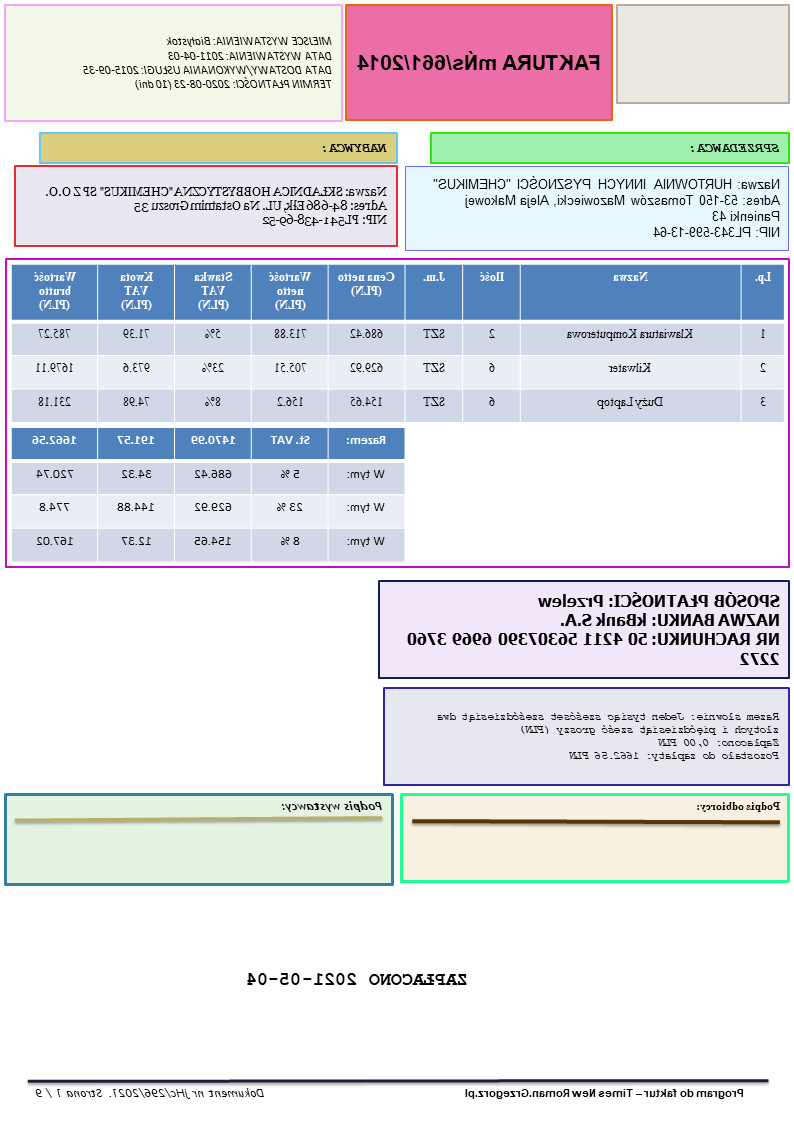Table: (11, 263, 785, 424), (10, 426, 407, 563)
TextBox: (406, 590, 783, 669), (430, 174, 783, 241), (434, 708, 782, 763), (43, 182, 390, 229), (81, 33, 334, 91), (355, 49, 602, 73), (463, 1086, 746, 1102), (244, 969, 469, 989), (34, 1085, 267, 1101), (280, 799, 385, 814), (697, 798, 782, 814), (689, 141, 781, 155), (321, 141, 390, 155)
